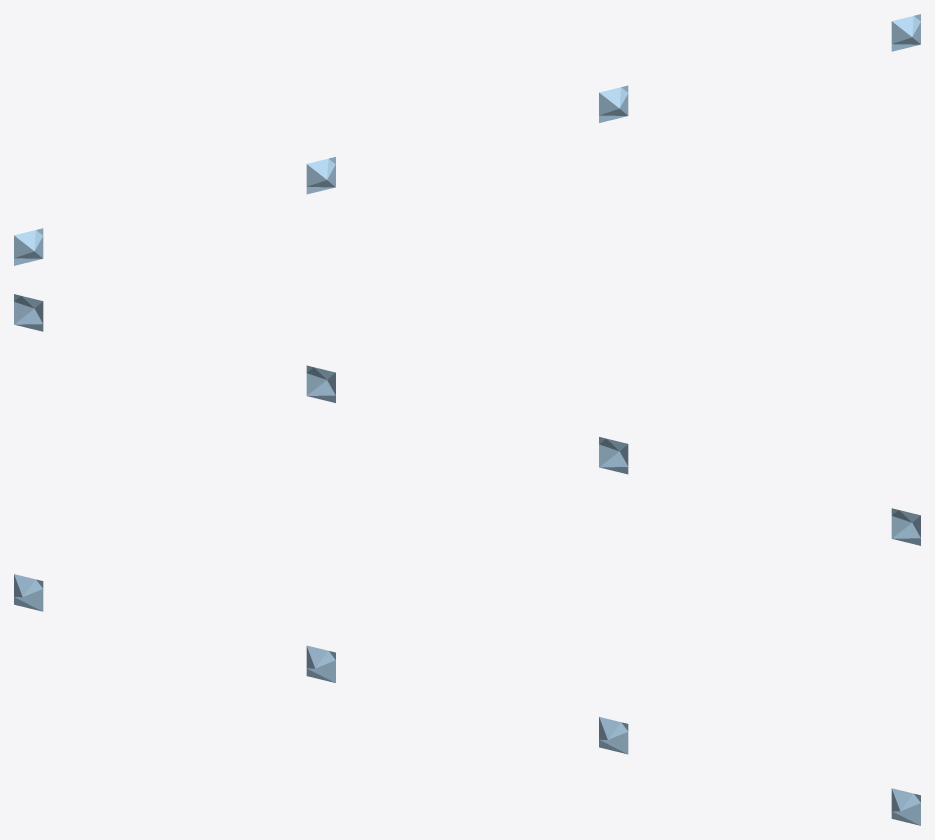
3 renders of one model, top to bottom at view 1: azimuth 30°, elevation 25°; view 2: azimuth 150°, elevation 25°; view 3: azimuth 330°, elevation 25°, orthographic.
Parts seen in each view (by area): view 1: equipment-0, equipment-1, equipment-2, equipment-3; view 2: equipment-0, equipment-1, equipment-2, equipment-3; view 3: equipment-0, equipment-1, equipment-2, equipment-3.
Part boxes in pixels (x1=…): equipment-0: x1=14, y1=228, x2=43, y2=265; equipment-1: x1=306, y1=157, x2=335, y2=194; equipment-2: x1=599, y1=85, x2=628, y2=122; equipment-3: x1=891, y1=14, x2=920, y2=51; equipment-0: x1=891, y1=508, x2=920, y2=545; equipment-1: x1=599, y1=437, x2=628, y2=474; equipment-2: x1=306, y1=365, x2=335, y2=402; equipment-3: x1=14, y1=294, x2=43, y2=331; equipment-0: x1=14, y1=574, x2=43, y2=611; equipment-1: x1=306, y1=645, x2=335, y2=682; equipment-2: x1=599, y1=717, x2=628, y2=754; equipment-3: x1=891, y1=788, x2=920, y2=825.
Bounding box in the file's own units: 31 × 1 × 0.35.
